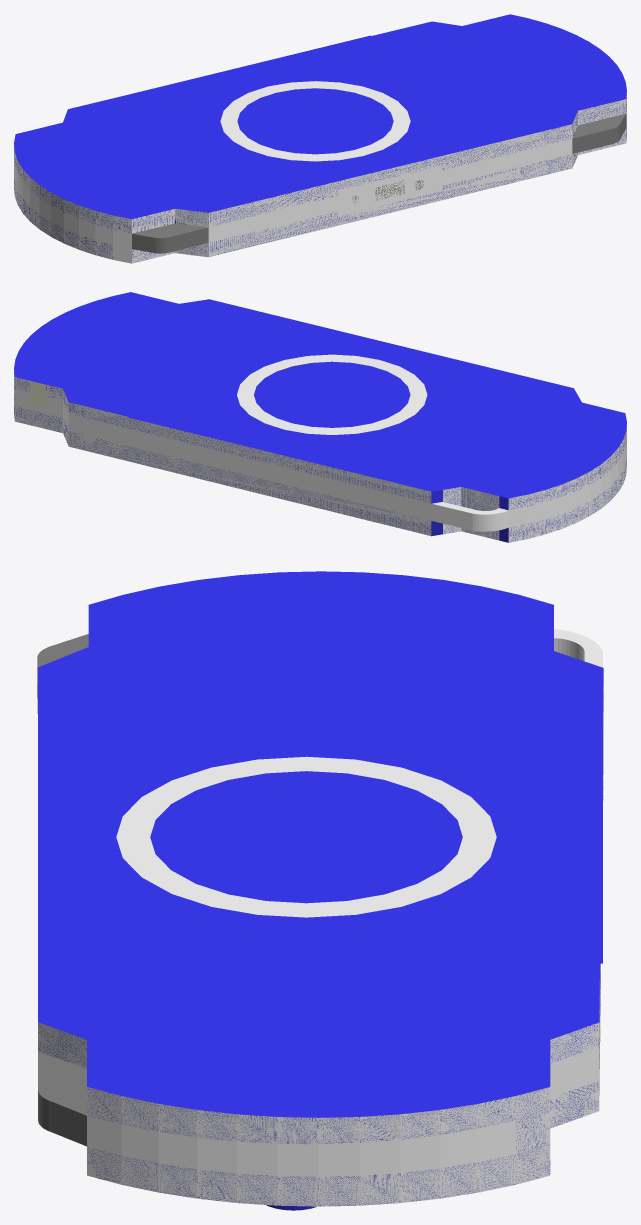
3 views of the same model, one above another, from view 1: azimuth 30°, elevation 25°; view 2: azimuth 150°, elevation 25°; view 3: azimuth 270°, elevation 25° (orthographic). The views are drawn at different scales.
Parts seen in each view (by area): view 1: japanese rd version psp blue paystation portable; view 2: japanese rd version psp blue paystation portable; view 3: japanese rd version psp blue paystation portable.
Part boxes in pixels (box(x1,y1,x2,y2)): japanese rd version psp blue paystation portable: box(14, 14, 626, 263); japanese rd version psp blue paystation portable: box(14, 292, 626, 542); japanese rd version psp blue paystation portable: box(37, 571, 603, 1210).
Bounding box in the file's own units: 172 × 15.25 × 75.18.
